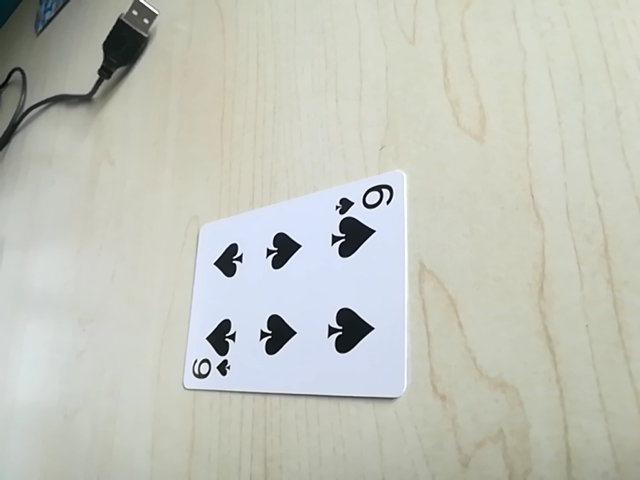ht 6: (334, 179, 397, 216), (188, 351, 237, 386)
